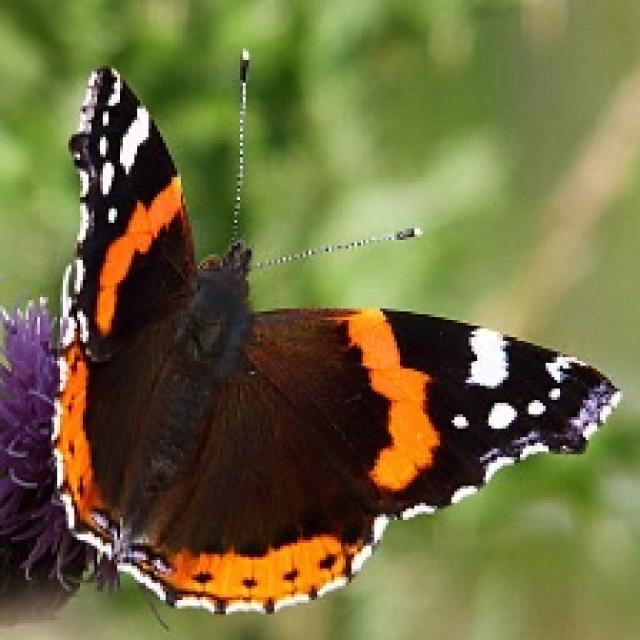butterfly: (46, 46, 620, 628)
